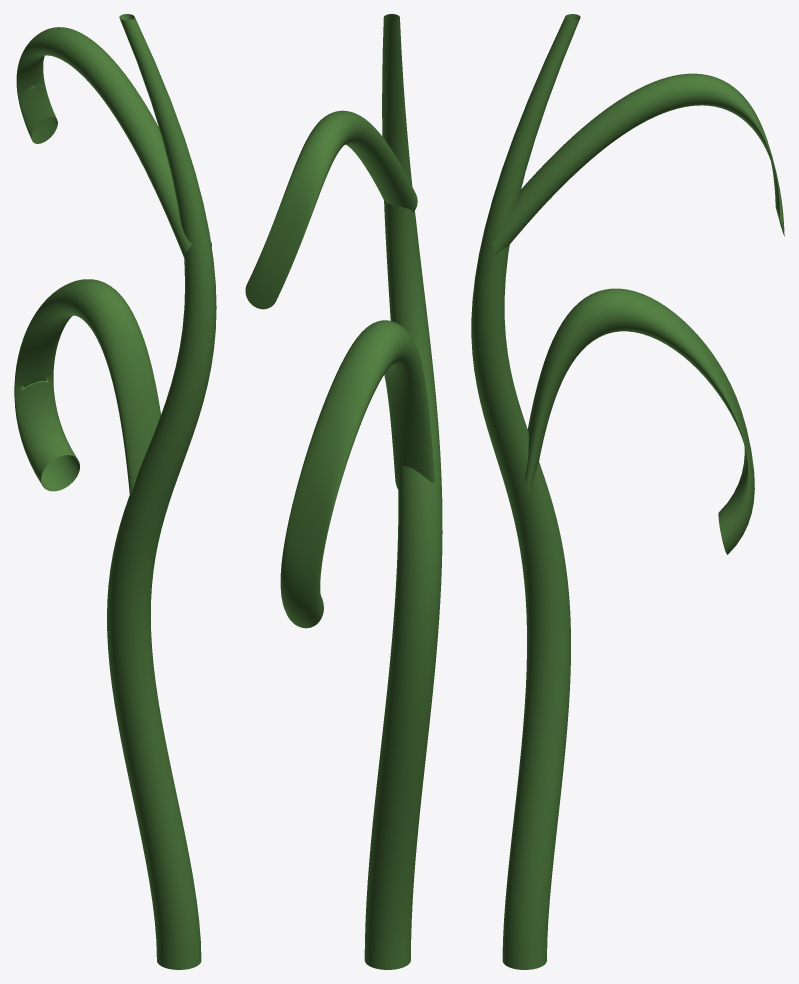
Rendered from 1ºFase_Tomate.fbx.
The picture shows the model from 3 angles, left to right: view 1: azimuth 30°, elevation 25°; view 2: azimuth 150°, elevation 25°; view 3: azimuth 270°, elevation 25°; orthographic projection. The views are drawn at different scales.
Visible parts, largest first — view 1: NurbsPath, NurbsPath.002, NurbsPath.001; view 2: NurbsPath, NurbsPath.002, NurbsPath.001; view 3: NurbsPath, NurbsPath.002, NurbsPath.001.
Part boxes in pixels (<box>): NurbsPath: <box>107,14,216,969</box>; NurbsPath.002: <box>14,279,160,496</box>; NurbsPath.001: <box>16,27,211,263</box>; NurbsPath: <box>364,14,442,969</box>; NurbsPath.002: <box>280,320,434,628</box>; NurbsPath.001: <box>245,110,417,309</box>; NurbsPath: <box>471,14,580,969</box>; NurbsPath.002: <box>524,288,754,554</box>; NurbsPath.001: <box>492,73,784,255</box>.
Bounding box in the file's own units: 18.22 × 207 × 63.23.
